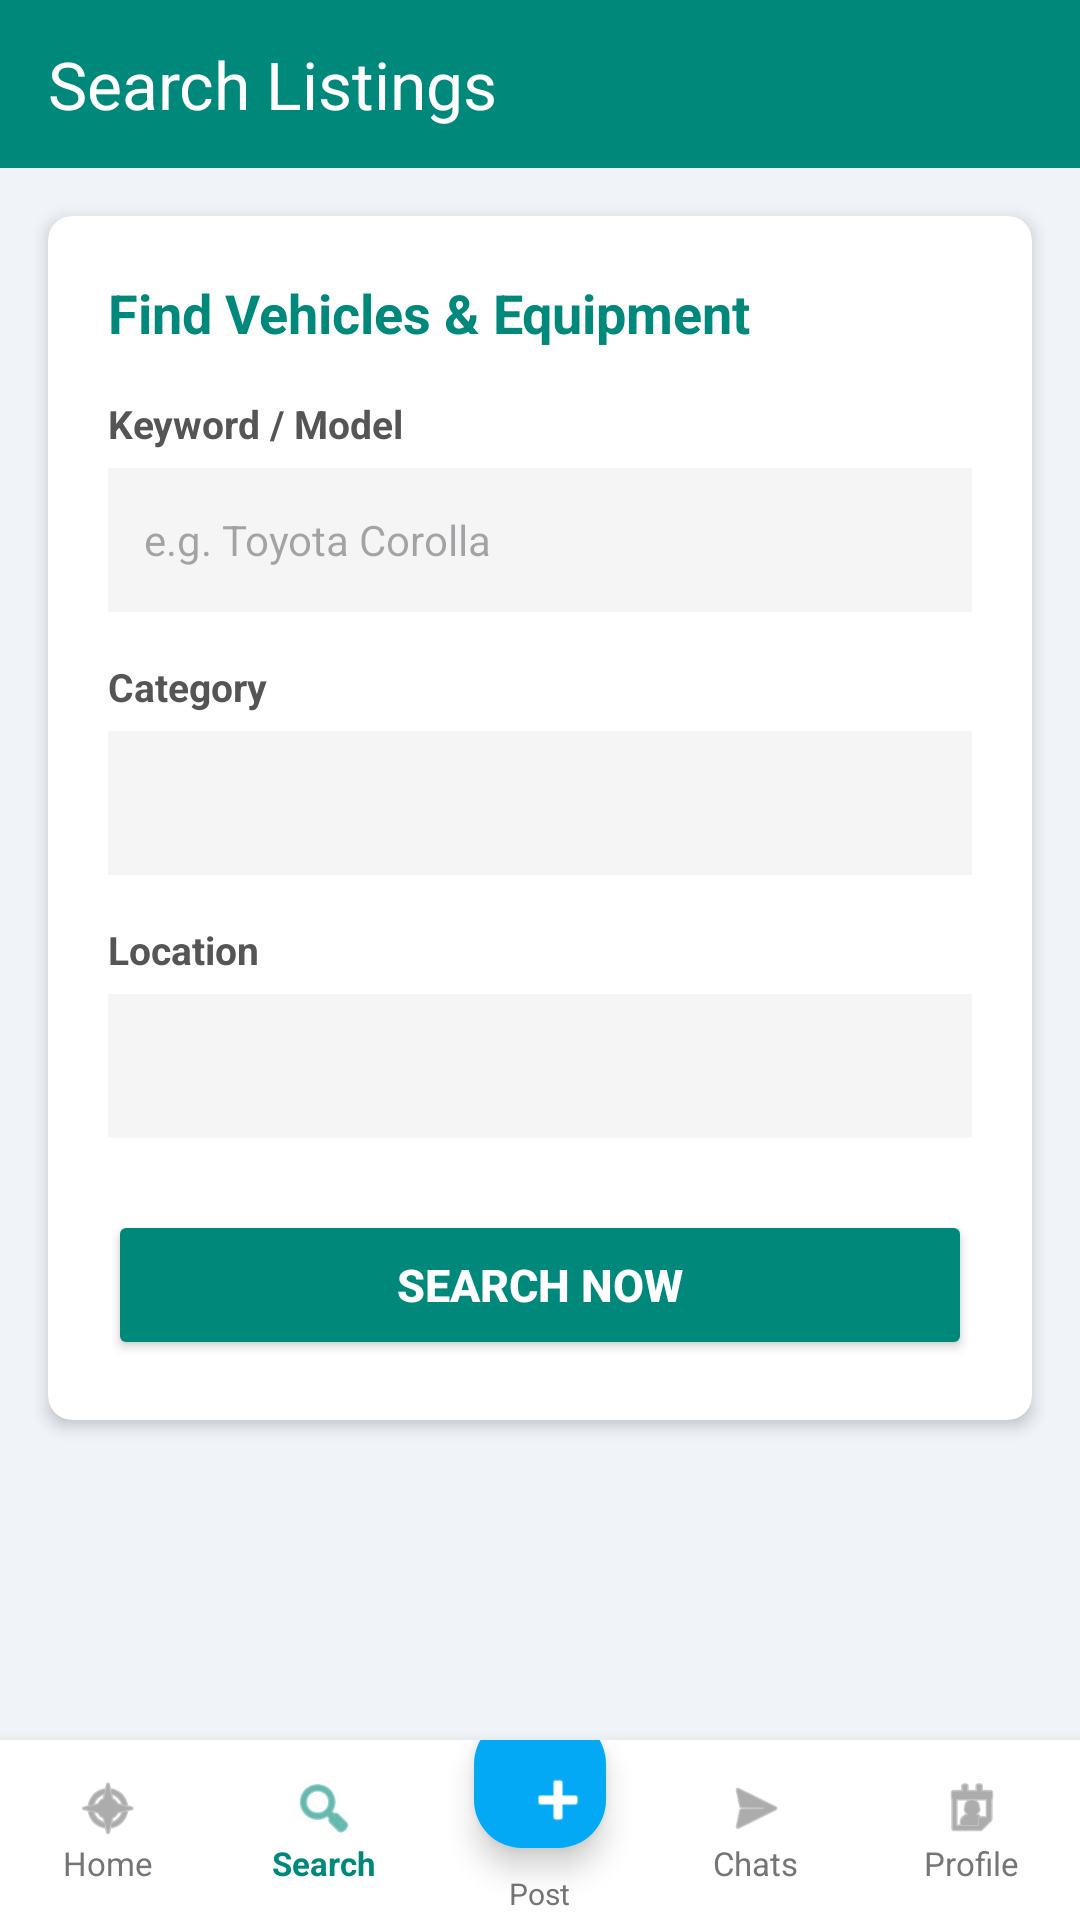

Locate icon controls on the screen. Image size 1080x1920, boxes as (x1, y1, x2, y2).
calendar: (951, 1783, 993, 1831)
compass: (82, 1782, 134, 1834)
send: (736, 1788, 777, 1829)
